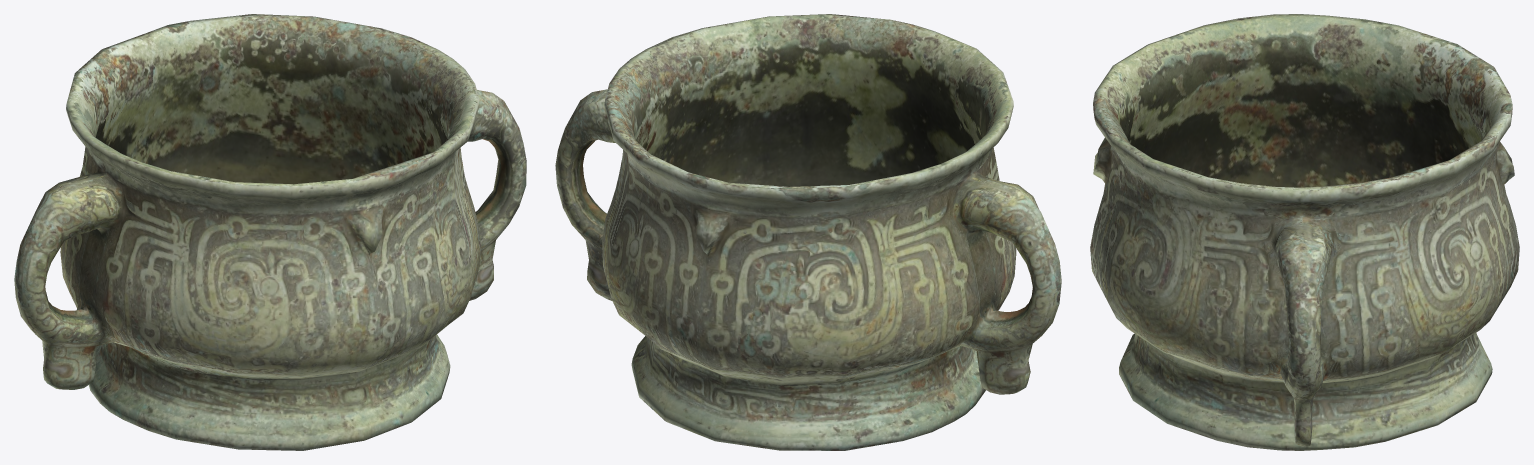
Rendered from vase.fbx.
3 views of the same model, side by side, from view 1: azimuth 30°, elevation 25°; view 2: azimuth 150°, elevation 25°; view 3: azimuth 270°, elevation 25° (orthographic).
Visible parts, largest first — view 1: Ancient Food Vessel; view 2: Ancient Food Vessel; view 3: Ancient Food Vessel.
Part boxes in pixels (x1=…): Ancient Food Vessel: x1=14, y1=14, x2=526, y2=450; Ancient Food Vessel: x1=555, y1=14, x2=1061, y2=450; Ancient Food Vessel: x1=1090, y1=14, x2=1519, y2=450.
Bounding box in the file's own units: 22.74 × 11.91 × 16.73.
